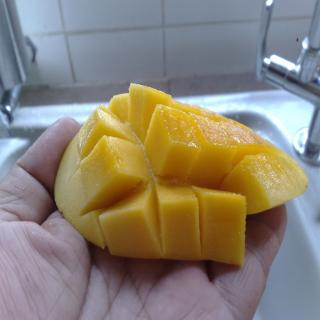Mango: (52, 83, 308, 266)
